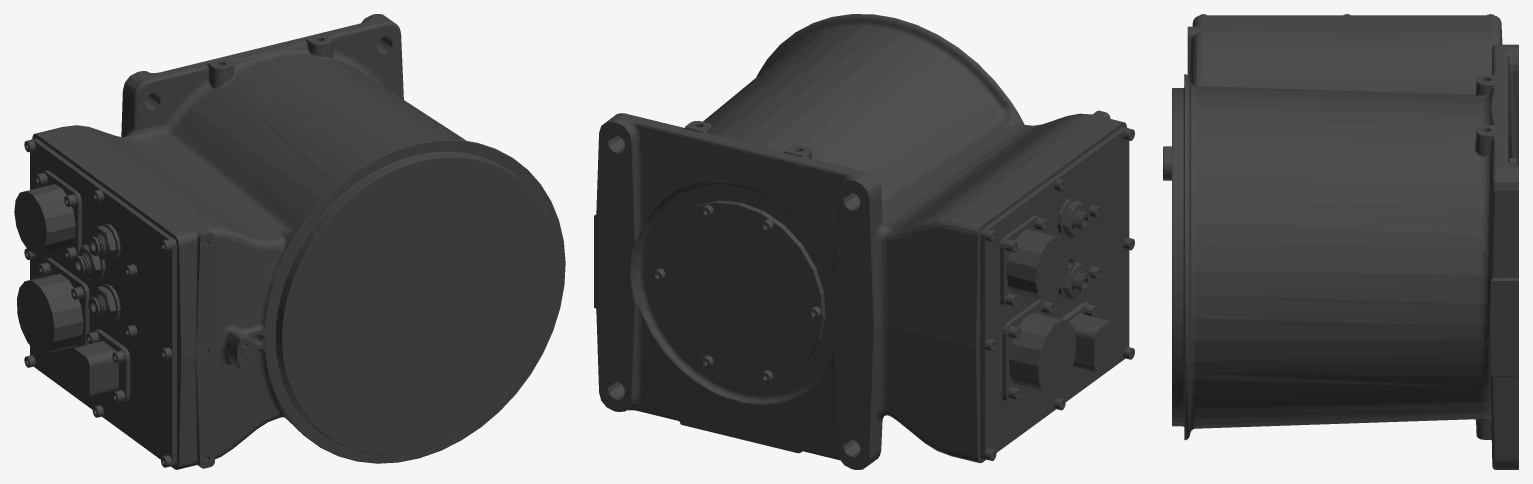
3 views of the same model, side by side, from view 1: azimuth 30°, elevation 25°; view 2: azimuth 150°, elevation 25°; view 3: azimuth 270°, elevation 25° (orthographic). The views are drawn at different scales.
Visible parts, largest first — view 1: base_link-mesh; view 2: base_link-mesh; view 3: base_link-mesh.
Boxes of the visible parts, box(x1,y1,x2,y2) form: base_link-mesh: box(14, 14, 565, 469); base_link-mesh: box(594, 14, 1134, 469); base_link-mesh: box(1163, 14, 1518, 469).
Bounding box in the file's own units: 0.2904 × 0.2079 × 0.202.
1 material, 1 textured.
